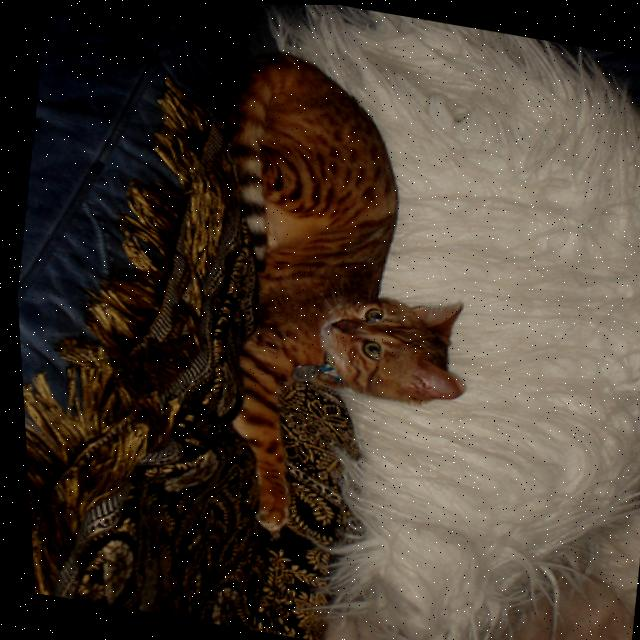Bengal: (155, 35, 547, 575)
